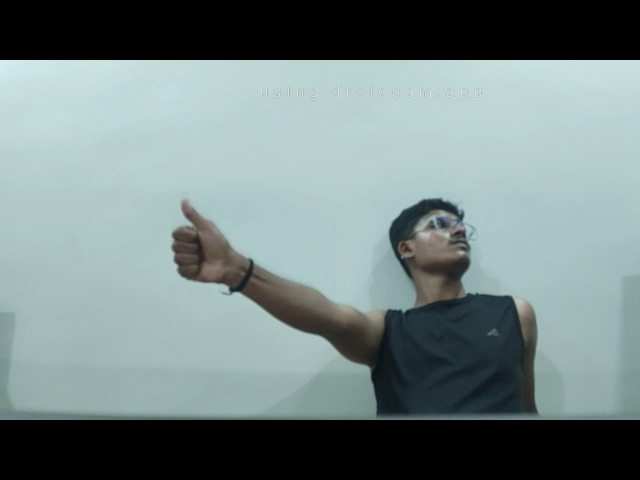thanks: (164, 188, 244, 308)
